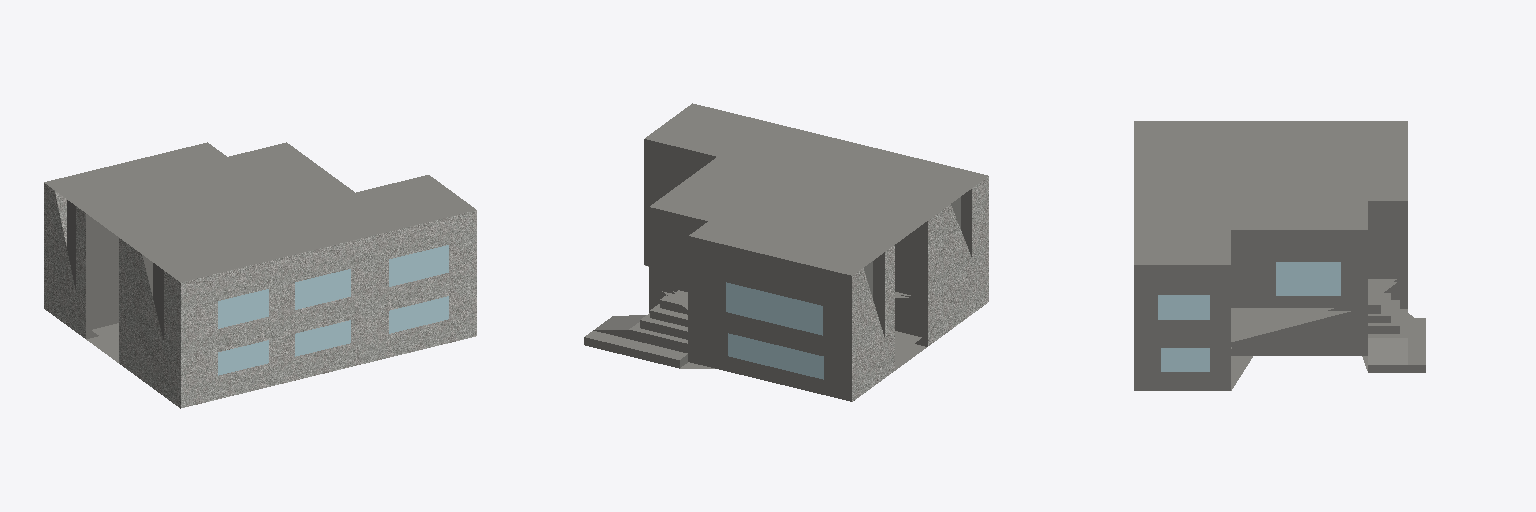
The picture shows the model from 3 angles: view 1: azimuth 30°, elevation 25°; view 2: azimuth 150°, elevation 25°; view 3: azimuth 270°, elevation 25°; orthographic projection.
Parts seen in each view (by area): view 1: Mesh1 Group1 Model; view 2: Mesh1 Group1 Model; view 3: Mesh1 Group1 Model.
Boxes of the visible parts, x1=… form: Mesh1 Group1 Model: x1=44, y1=142, x2=476, y2=408; Mesh1 Group1 Model: x1=584, y1=103, x2=988, y2=401; Mesh1 Group1 Model: x1=1134, y1=121, x2=1425, y2=390.
Size of the model in its own units: 74 by 30.05 by 62.98.
Materials: 3 (1 with a texture image).